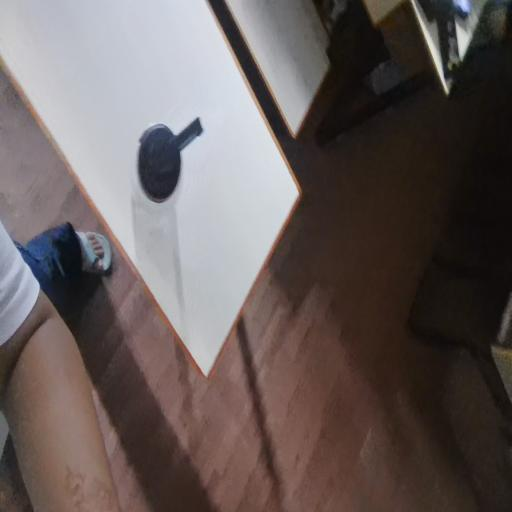Bottle: (112, 100, 226, 210)
